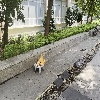fire: (37, 53, 47, 66)
